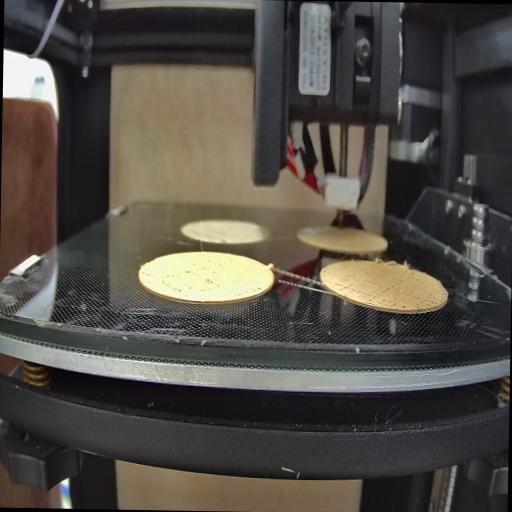under_extrusion: (160, 260, 220, 296), (379, 277, 433, 311), (235, 282, 263, 303), (328, 282, 367, 296)
